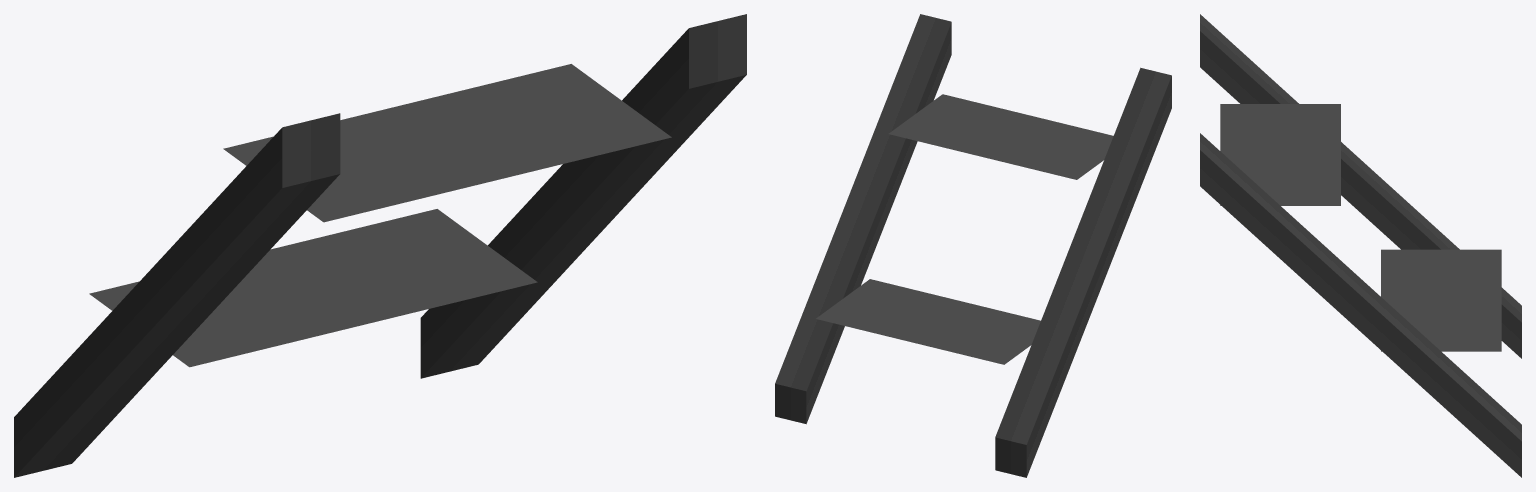
File: steel_catwalk_stairs.obj
3 renders of one model, left to right at view 1: azimuth 30°, elevation 25°; view 2: azimuth 150°, elevation 25°; view 3: azimuth 270°, elevation 25°, orthographic. The views are drawn at different scales.
Visible parts, largest first — view 1: beam1, path2, beam2, path1; view 2: beam1, beam2, path2, path1; view 3: beam2, path1, path2, beam1.
Part boxes in pixels (<box>): beam1: <box>14,113,340,477</box>; path2: <box>223,64,671,222</box>; beam2: <box>420,14,746,378</box>; path1: <box>89,209,537,367</box>; beam1: <box>995,67,1171,477</box>; beam2: <box>775,14,951,424</box>; path2: <box>888,94,1113,179</box>; path1: <box>816,279,1040,364</box>; beam2: <box>1200,133,1521,477</box>; path1: <box>1381,249,1501,351</box>; path2: <box>1220,104,1340,205</box>; beam1: <box>1200,14,1521,358</box>.
Bounding box in the file's own units: 1 × 1.12 × 1.
